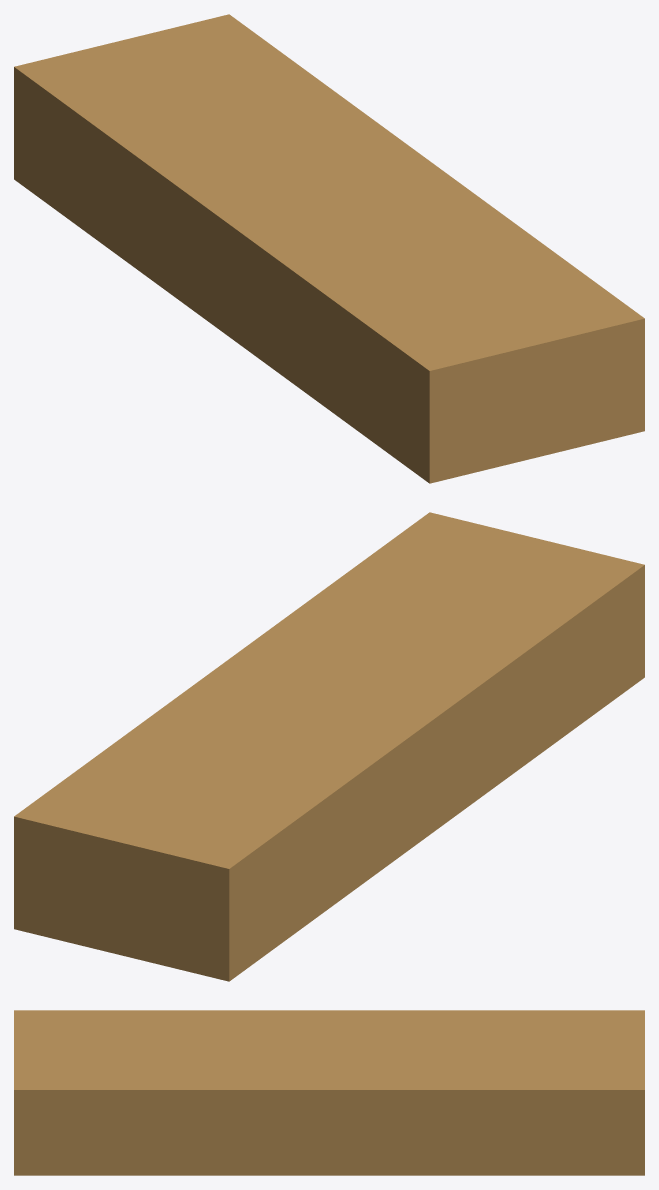
3 renders of one model, top to bottom at view 1: azimuth 30°, elevation 25°; view 2: azimuth 150°, elevation 25°; view 3: azimuth 270°, elevation 25°, orthographic. The views are drawn at different scales.
Parts seen in each view (by area): view 1: RUN-076-S00-NOG-21; view 2: RUN-076-S00-NOG-21; view 3: RUN-076-S00-NOG-21.
Boxes of the visible parts, x1,y1,x2,y2 form: RUN-076-S00-NOG-21: [14, 14, 644, 483]; RUN-076-S00-NOG-21: [14, 512, 644, 981]; RUN-076-S00-NOG-21: [14, 1010, 644, 1175].
Bounding box in the file's own units: 0.09 × 0.045 × 0.301.
